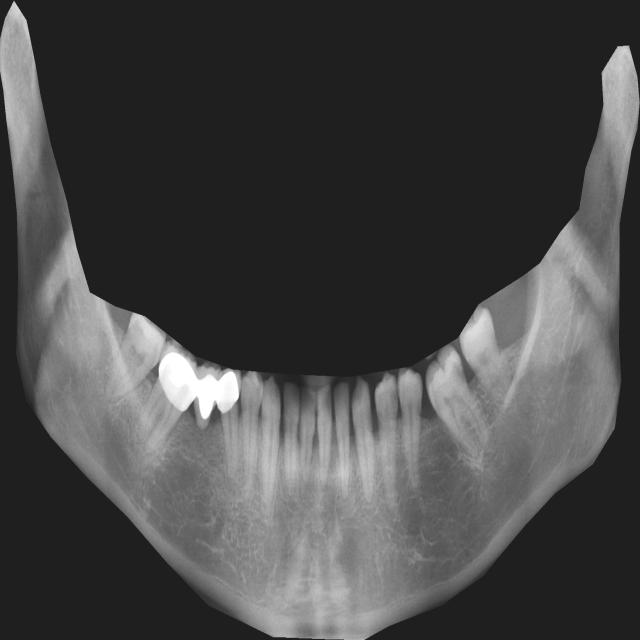mandibula: (0, 1, 640, 640)
